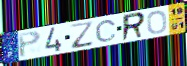4: (45, 26, 63, 53)
C: (95, 19, 118, 43)
O: (146, 9, 168, 35)
P: (17, 30, 43, 59)
R: (121, 11, 147, 42)
Z: (69, 20, 96, 50)
